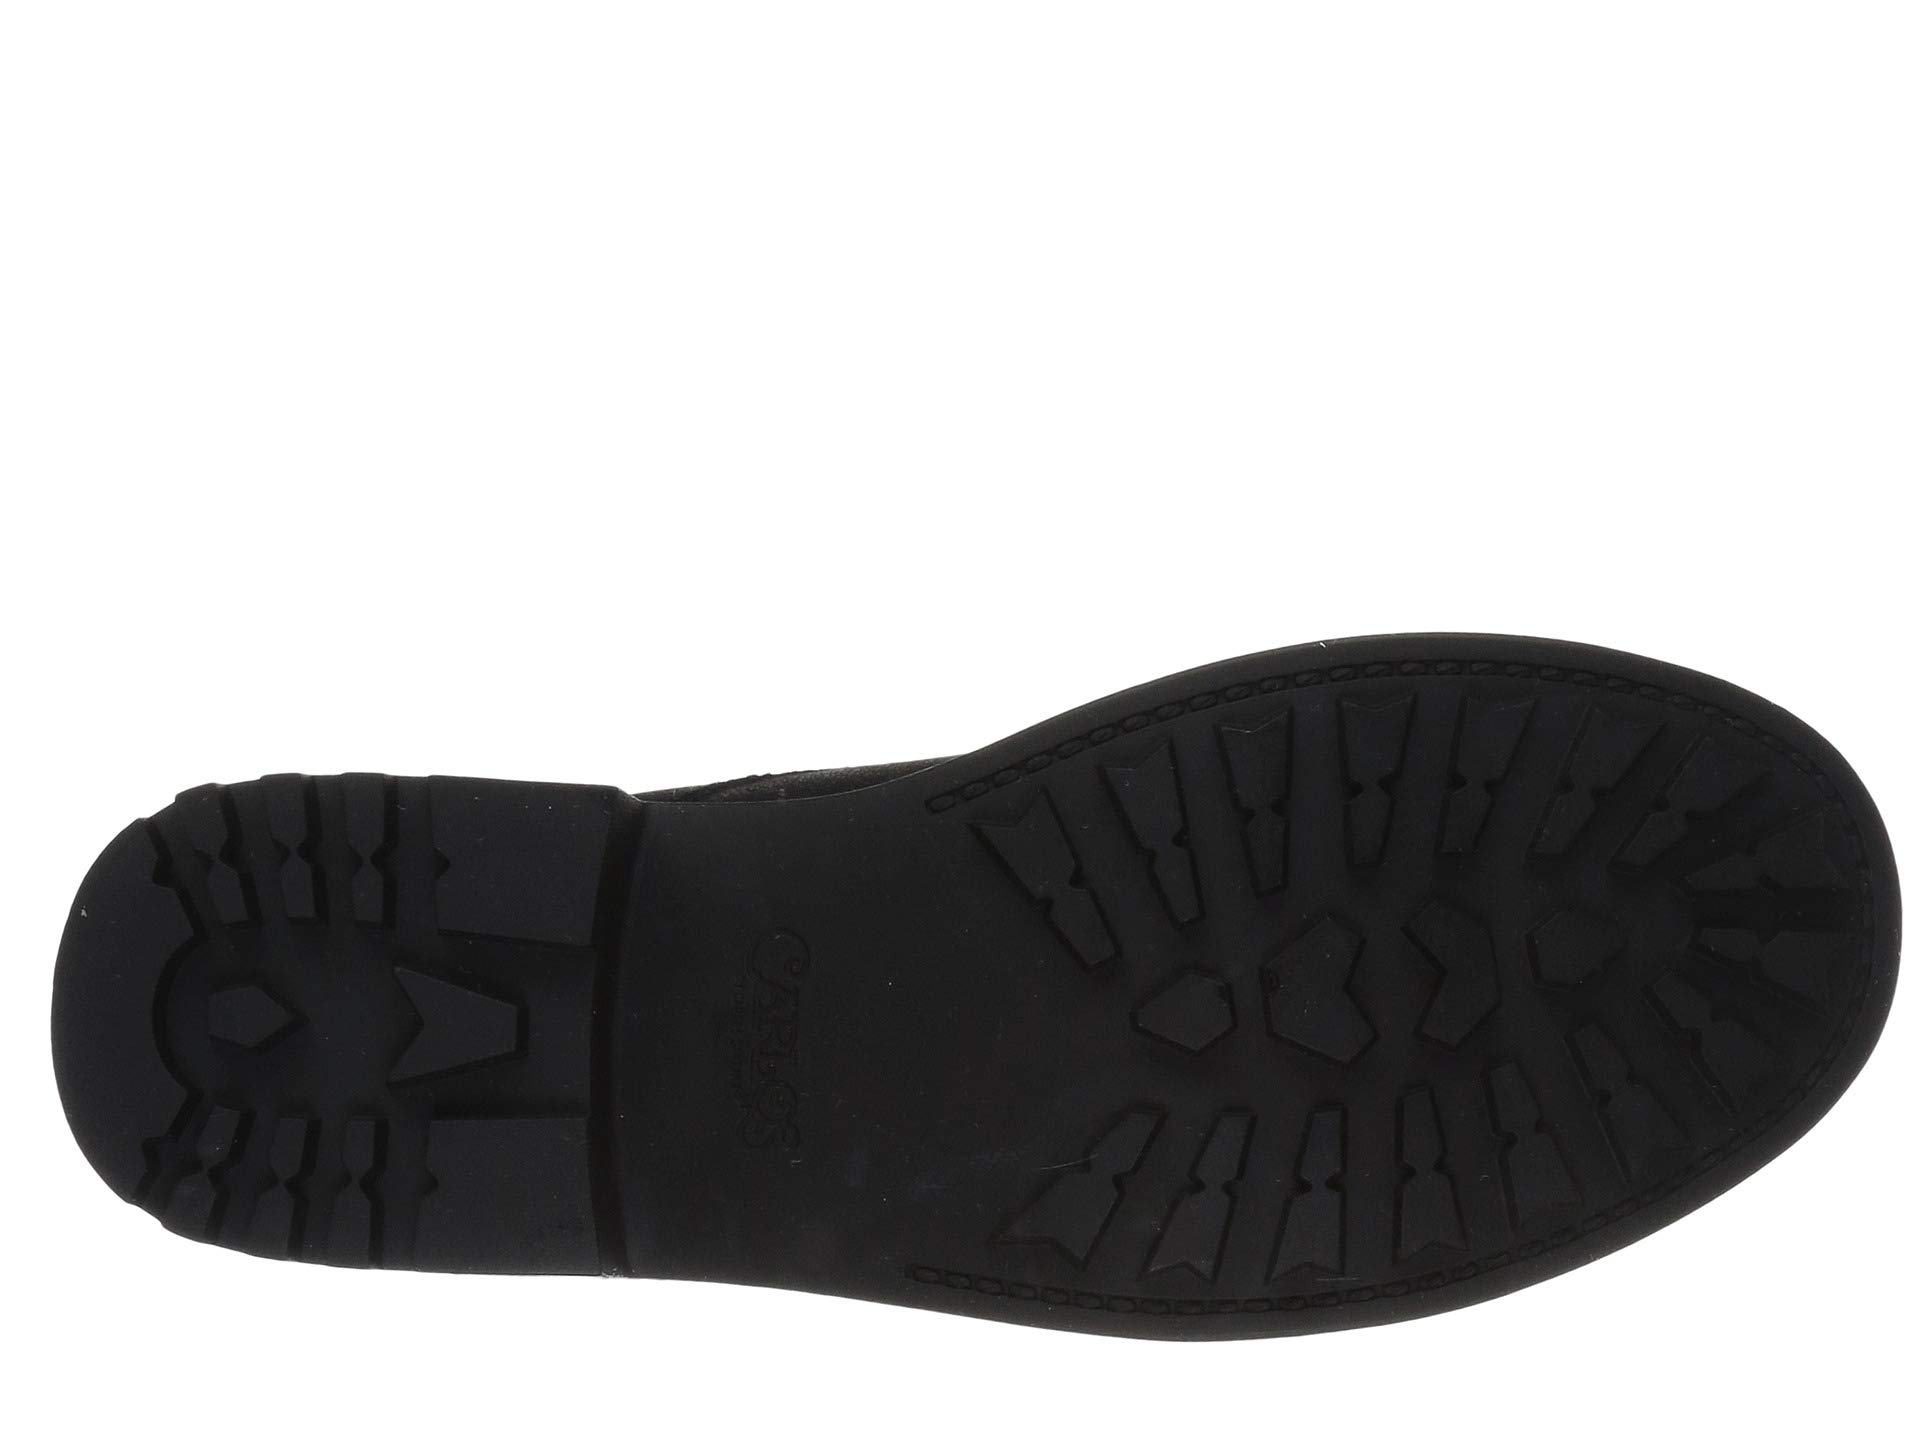bowtie: (156, 731, 410, 961)
polygon: (1075, 912, 1273, 1106), (184, 964, 330, 1092), (1510, 880, 1633, 1003)
